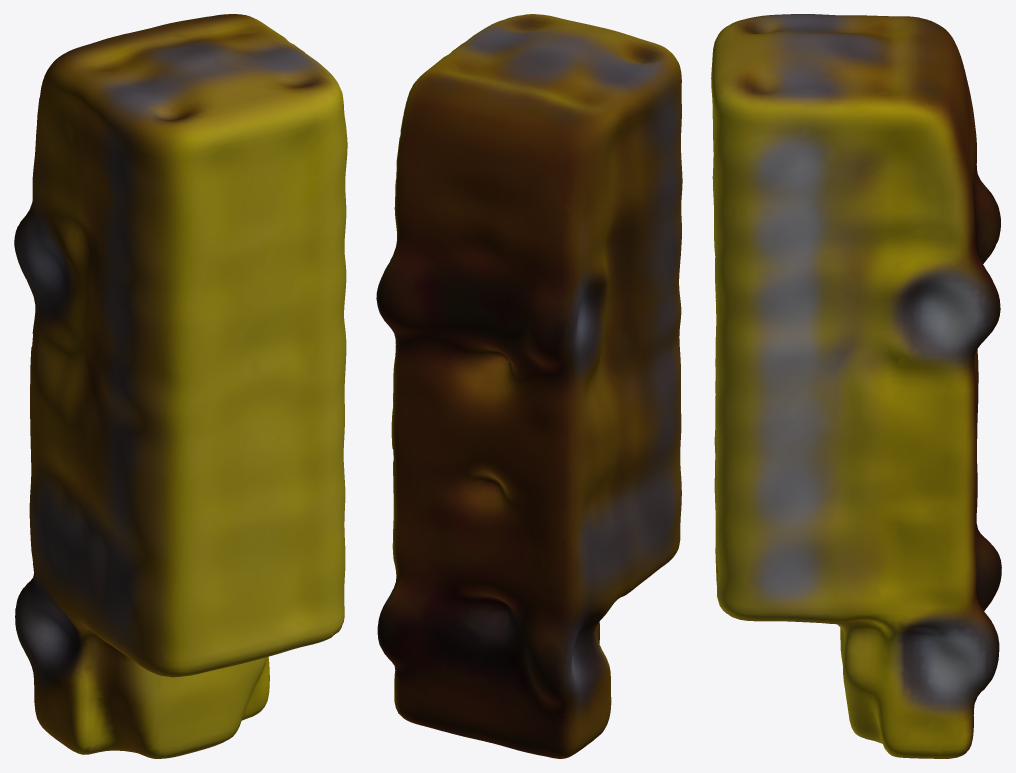
Rendered from school_bus1.glb.
The picture shows the model from 3 angles, left to right: view 1: azimuth 30°, elevation 25°; view 2: azimuth 150°, elevation 25°; view 3: azimuth 270°, elevation 25°; orthographic projection. The views are drawn at different scales.
Size of the model in its own units: 0.3161 by 0.9999 by 0.3873.
